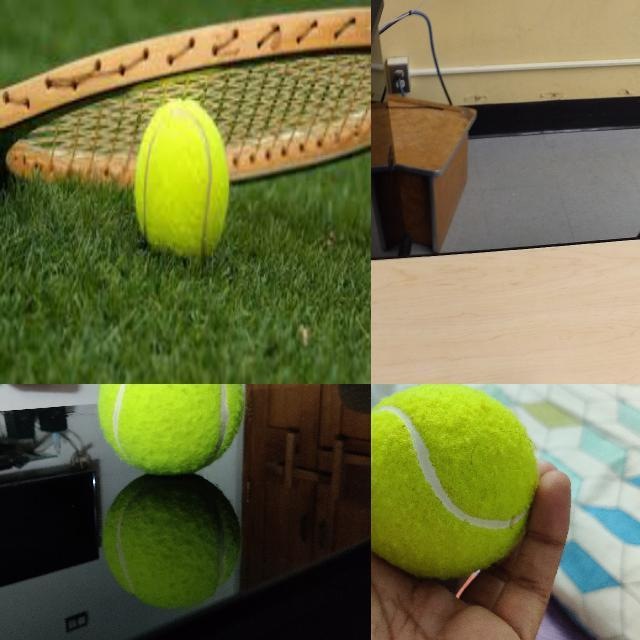tennis-ball: (371, 384, 541, 582), (133, 96, 230, 258), (97, 384, 246, 476)
